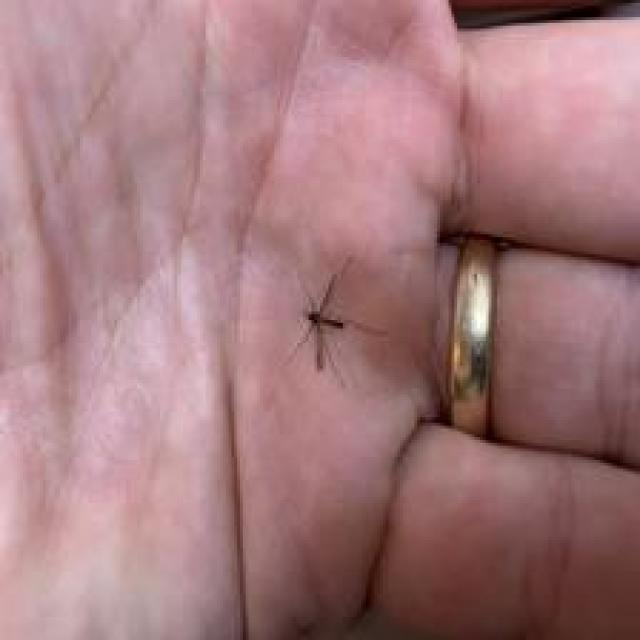Culex: (280, 272, 389, 388)
